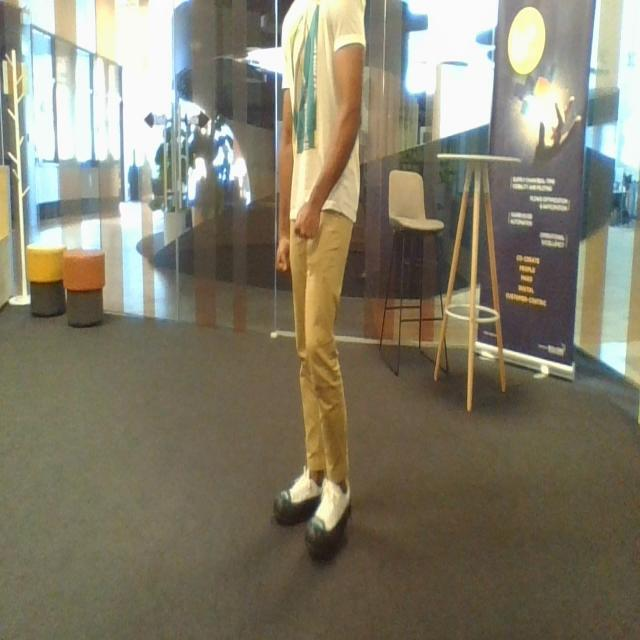shoes: (296, 472, 356, 568), (264, 472, 342, 526)
